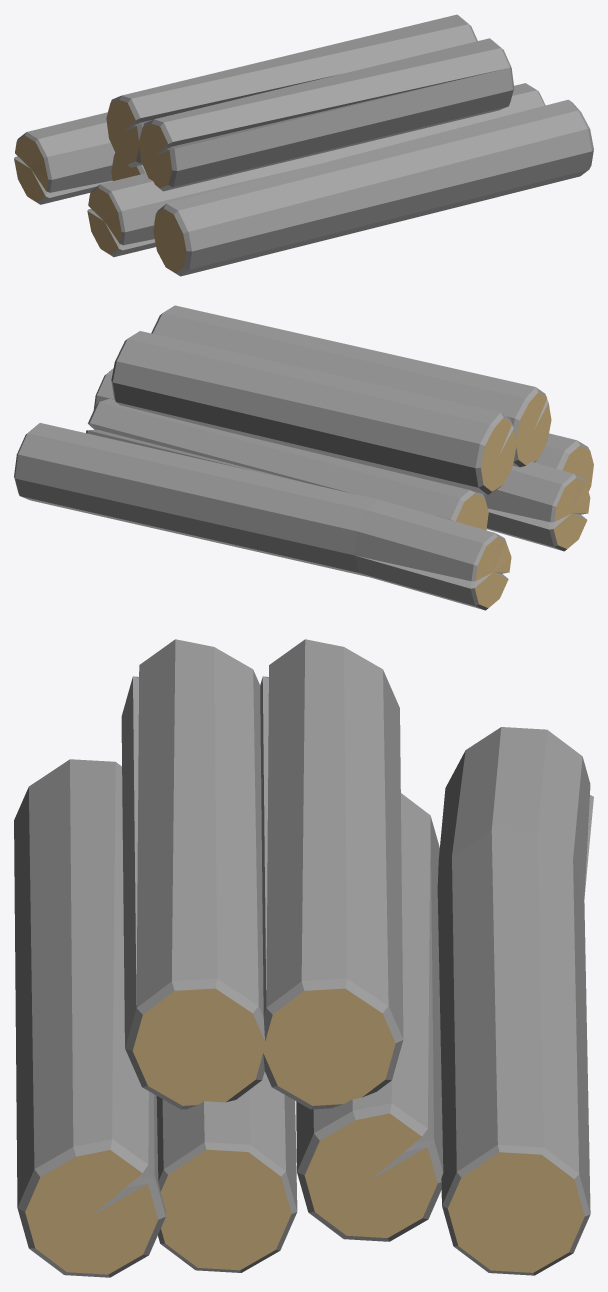
Rendered from PT_Log_08.fbx.
3 views of the same model, one above another, from view 1: azimuth 30°, elevation 25°; view 2: azimuth 150°, elevation 25°; view 3: azimuth 270°, elevation 25° (orthographic). The views are drawn at different scales.
Visible parts, largest first — view 1: PT_Log_08; view 2: PT_Log_08; view 3: PT_Log_08.
Part boxes in pixels (left/top/right/bottom): PT_Log_08: left=14, top=14, right=593, bottom=276; PT_Log_08: left=14, top=305, right=593, bottom=610; PT_Log_08: left=14, top=639, right=593, bottom=1277.
Bounding box in the file's own units: 281 × 81.02 × 161.
Materials: 1 (1 with a texture image).
